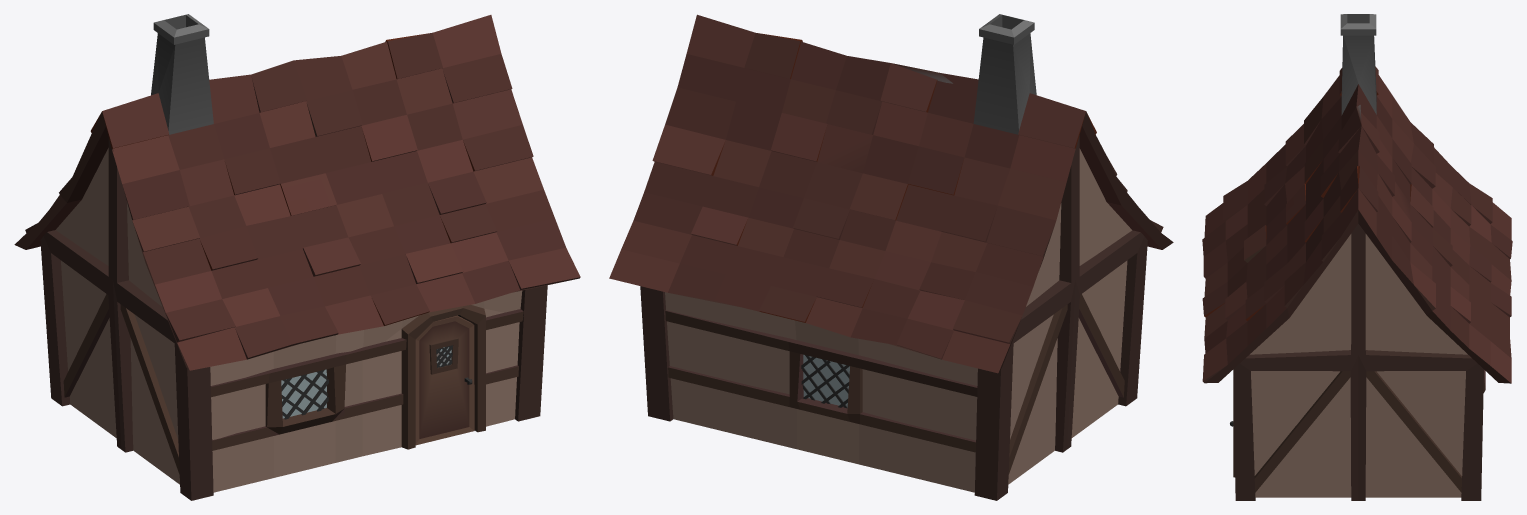
File: HouseWide.fbx
The picture shows the model from 3 angles, left to right: view 1: azimuth 30°, elevation 25°; view 2: azimuth 150°, elevation 25°; view 3: azimuth 270°, elevation 25°; orthographic projection. The views are drawn at different scales.
Parts seen in each view (by area): view 1: HouseWide, Door; view 2: HouseWide; view 3: HouseWide.
Part boxes in pixels (left/top/right/bottom): HouseWide: left=14, top=14, right=580, bottom=500; Door: left=415, top=315, right=474, bottom=445; HouseWide: left=609, top=14, right=1173, bottom=500; HouseWide: left=1202, top=14, right=1512, bottom=500.
Size of the model in its own units: 5.39 by 5.47 by 4.27.
